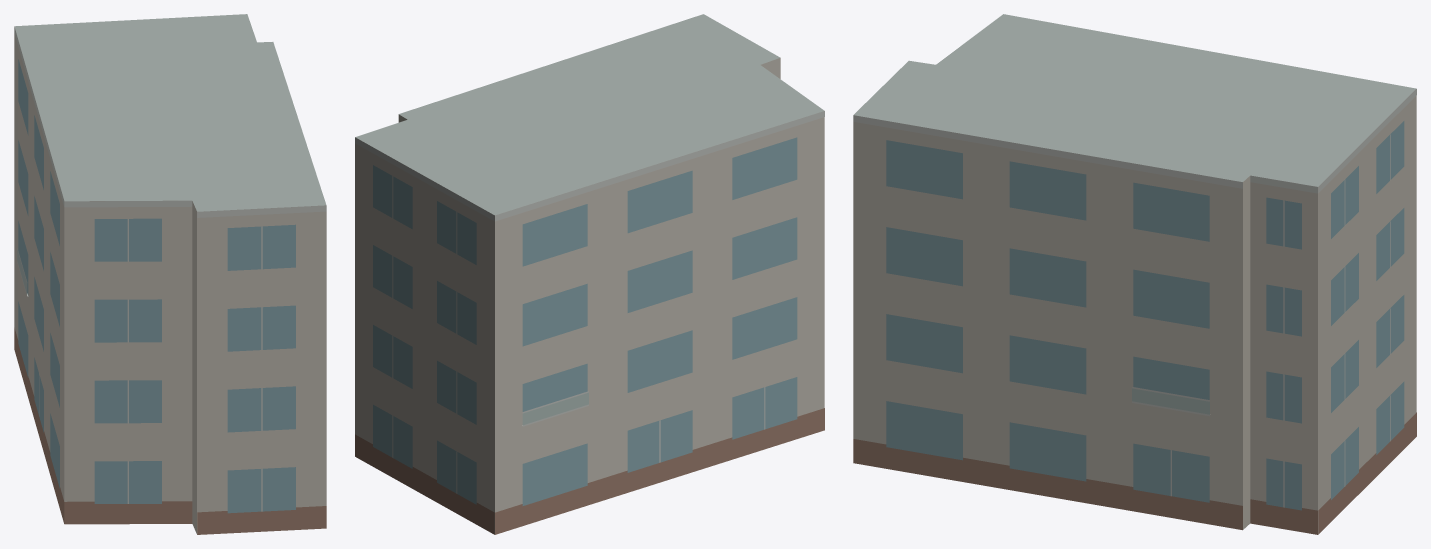
The model's file is survey-upis-32543347.glb.
The picture shows the model from 3 angles, left to right: view 1: azimuth 30°, elevation 25°; view 2: azimuth 150°, elevation 25°; view 3: azimuth 270°, elevation 25°; orthographic projection. The views are drawn at different scales.
Visible parts, largest first — view 1: survey-upis-32543347.tmp; view 2: survey-upis-32543347.tmp; view 3: survey-upis-32543347.tmp.
Part boxes in pixels (box(x1,y1,x2,y2)): survey-upis-32543347.tmp: box(14, 14, 326, 534); survey-upis-32543347.tmp: box(355, 14, 824, 534); survey-upis-32543347.tmp: box(853, 14, 1416, 534).
Size of the model in its own units: 13.65 by 12.8 by 18.8.
